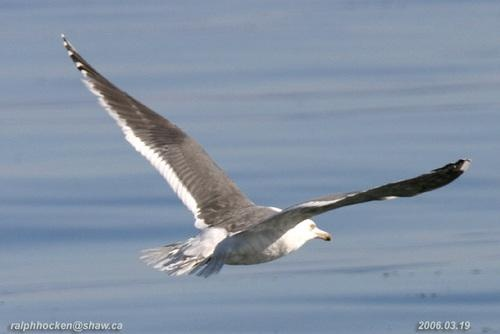bird: (55, 27, 470, 281)
